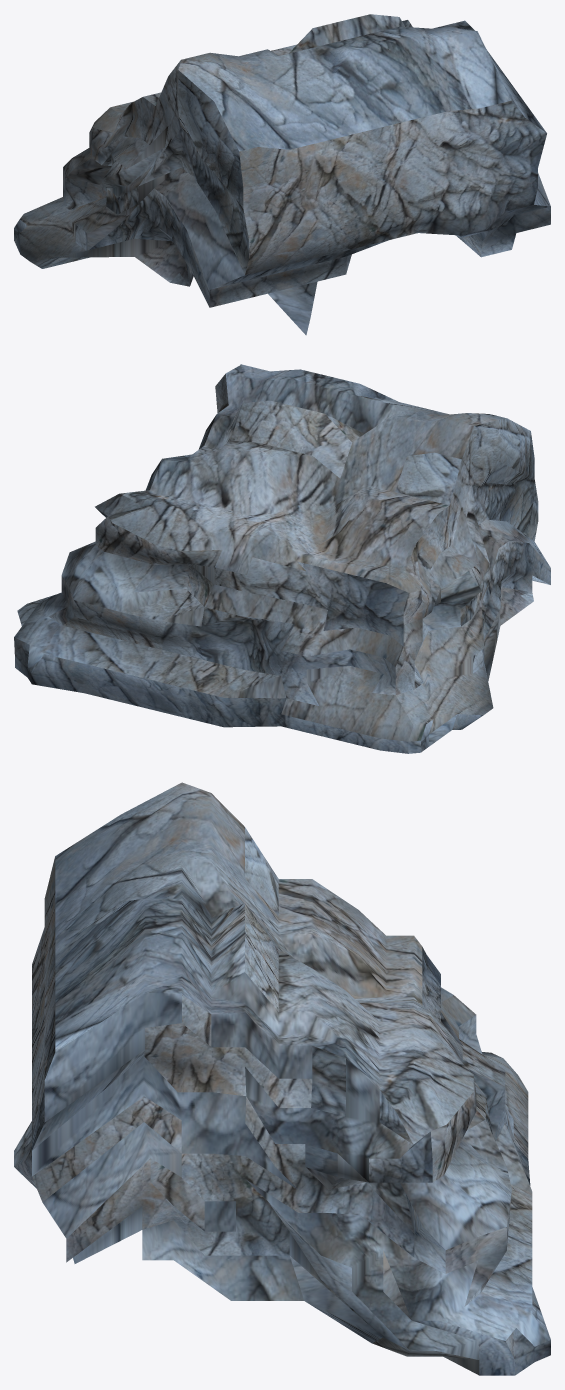
File: cliff1.FBX
3 views of the same model, one above another, from view 1: azimuth 30°, elevation 25°; view 2: azimuth 150°, elevation 25°; view 3: azimuth 270°, elevation 25° (orthographic). The views are drawn at different scales.
Parts seen in each view (by area): view 1: Box002; view 2: Box002; view 3: Box002.
Boxes of the visible parts, box(x1,y1,x2,y2) form: Box002: box(14, 14, 550, 335); Box002: box(14, 364, 550, 753); Box002: box(14, 782, 550, 1375).
Size of the model in its own units: 152 by 80.82 by 111.
